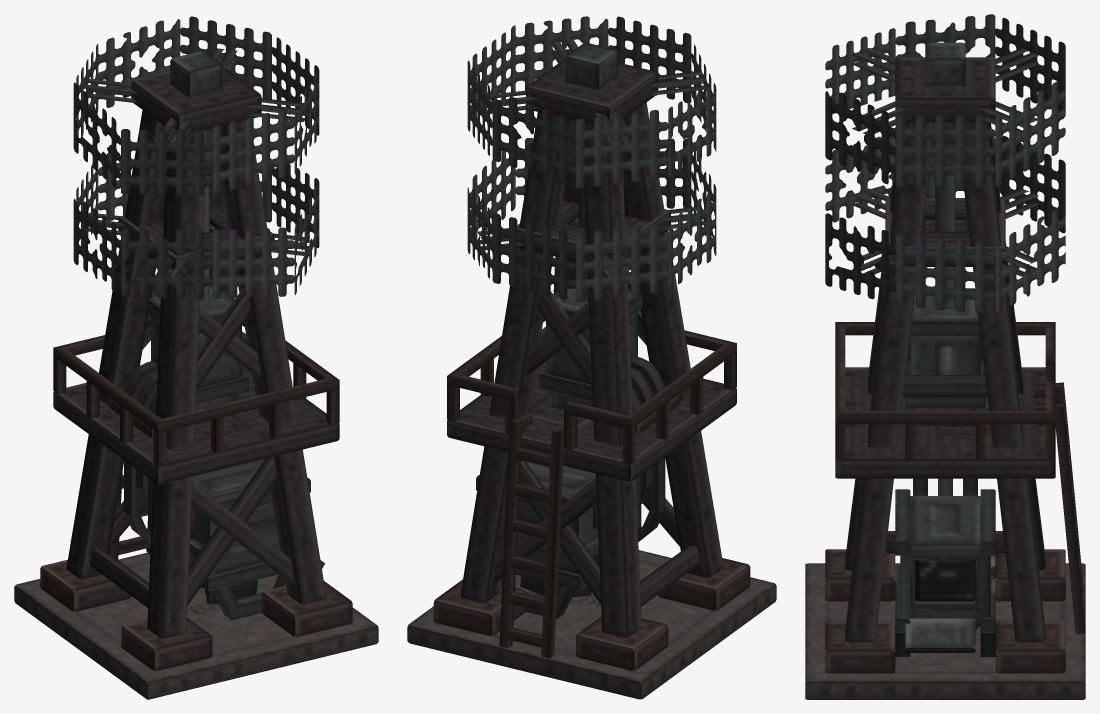
Rendered from arraytowerlarge.obj.
The picture shows the model from 3 angles, left to right: view 1: azimuth 30°, elevation 25°; view 2: azimuth 150°, elevation 25°; view 3: azimuth 270°, elevation 25°; orthographic projection. The views are drawn at different scales.
Visible parts, largest first — view 1: metallolom, main_antenn, huna2, computer, hujna1; view 2: metallolom, main_antenn, huna2, computer, hujna1; view 3: metallolom, main_antenn, huna2, computer, hujna1.
Boxes of the visible parts, left/top/right/bottom form: metallolom: left=14, top=51, right=378, bottom=699; main_antenn: left=73, top=16, right=319, bottom=195; huna2: left=73, top=152, right=319, bottom=298; computer: left=189, top=458, right=324, bottom=620; hujna1: left=82, top=48, right=309, bottom=152; metallolom: left=407, top=42, right=776, bottom=699; main_antenn: left=467, top=16, right=716, bottom=188; huna2: left=467, top=138, right=716, bottom=302; computer: left=476, top=461, right=599, bottom=619; hujna1: left=477, top=40, right=706, bottom=145; metallolom: left=805, top=42, right=1085, bottom=699; main_antenn: left=825, top=14, right=1065, bottom=187; huna2: left=825, top=135, right=1065, bottom=313; computer: left=895, top=489, right=995, bottom=656; hujna1: left=850, top=47, right=1038, bottom=134.
Size of the model in its own units: 3.5 by 8.12 by 3.5.
1 material, 1 textured.
